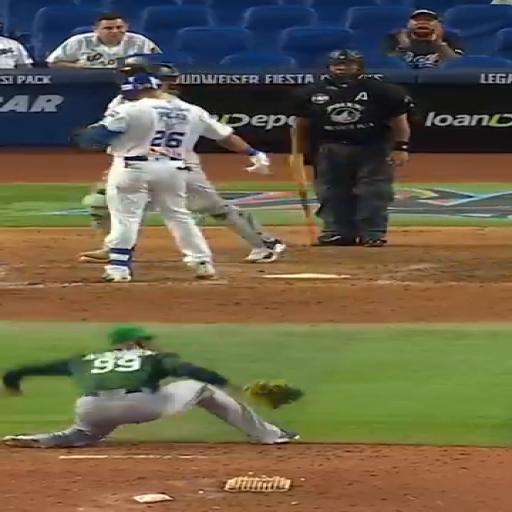bat: (289, 127, 315, 244)
